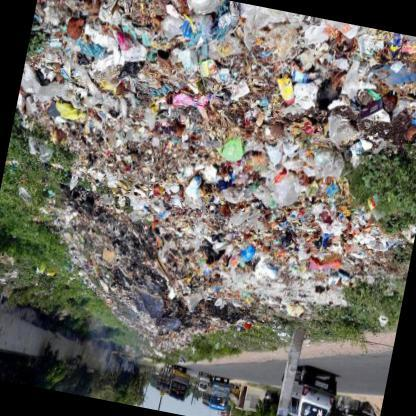Garbage: (183, 16, 278, 145), (294, 19, 376, 156), (199, 209, 296, 310), (36, 0, 130, 85), (164, 0, 273, 73), (124, 112, 212, 188), (97, 166, 181, 244), (102, 193, 172, 278), (265, 240, 333, 324), (258, 112, 324, 198), (27, 138, 130, 186), (184, 227, 245, 307), (59, 59, 124, 134), (236, 145, 298, 221), (249, 212, 306, 288), (374, 32, 415, 124), (386, 35, 415, 132)
